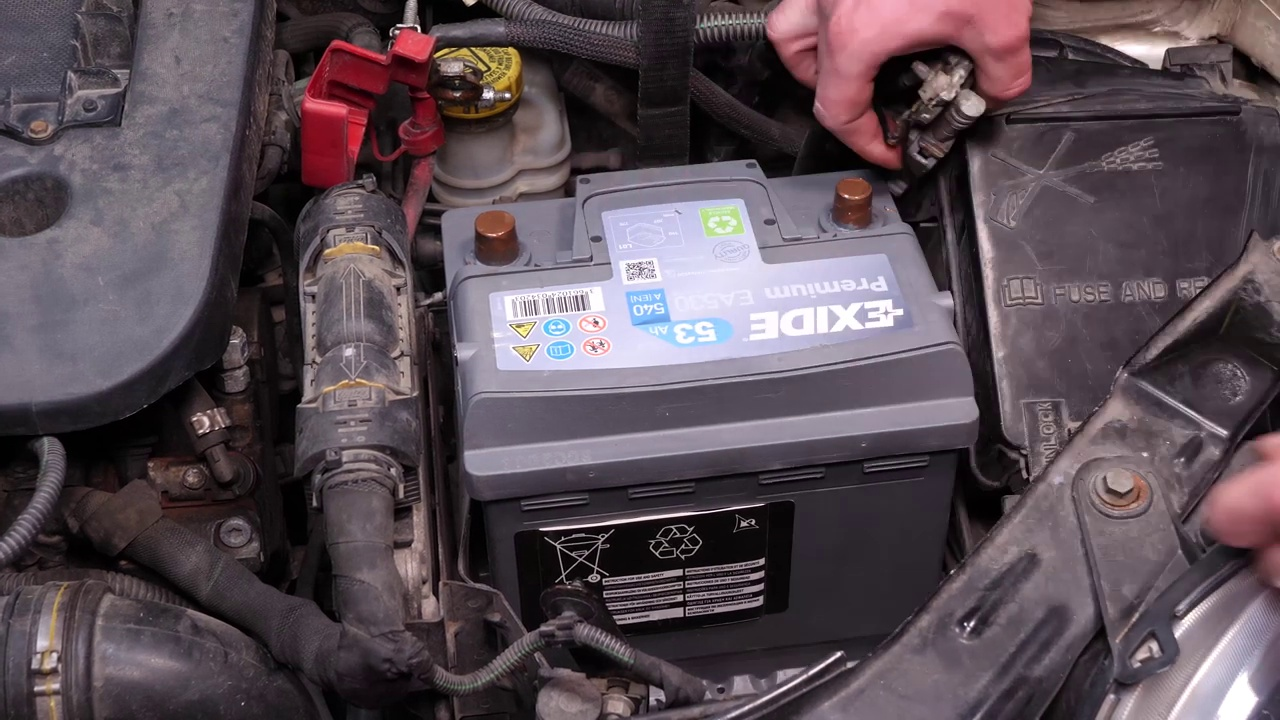battery: (427, 165, 977, 420)
neg_disconnected: (813, 71, 956, 243)
neg_touched: (762, 13, 966, 242)
pos_disconnected: (294, 41, 541, 265)
